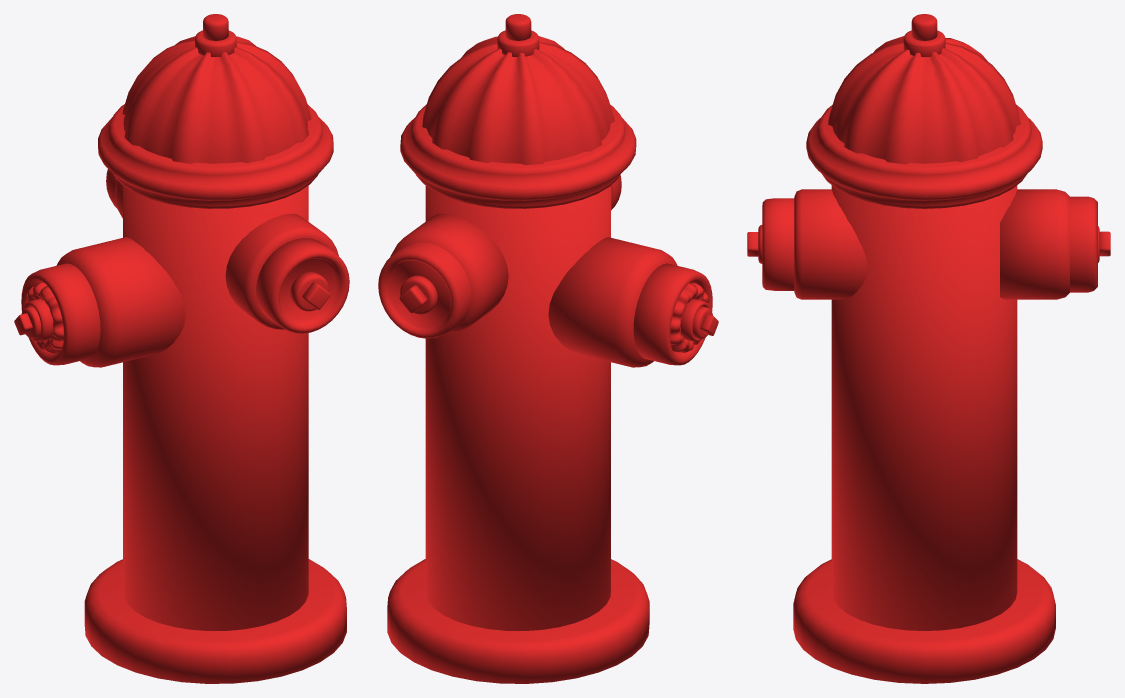
The model's file is FireHydrant.fbx.
3 views of the same model, side by side, from view 1: azimuth 30°, elevation 25°; view 2: azimuth 150°, elevation 25°; view 3: azimuth 270°, elevation 25° (orthographic).
Parts seen in each view (by area): view 1: FireHydrant; view 2: FireHydrant; view 3: FireHydrant.
Boxes of the visible parts, x1,y1,x2,y2 form: FireHydrant: [14, 14, 349, 683]; FireHydrant: [378, 14, 718, 683]; FireHydrant: [747, 14, 1110, 683].
Bounding box in the file's own units: 0.702 × 1.32 × 0.7136.
